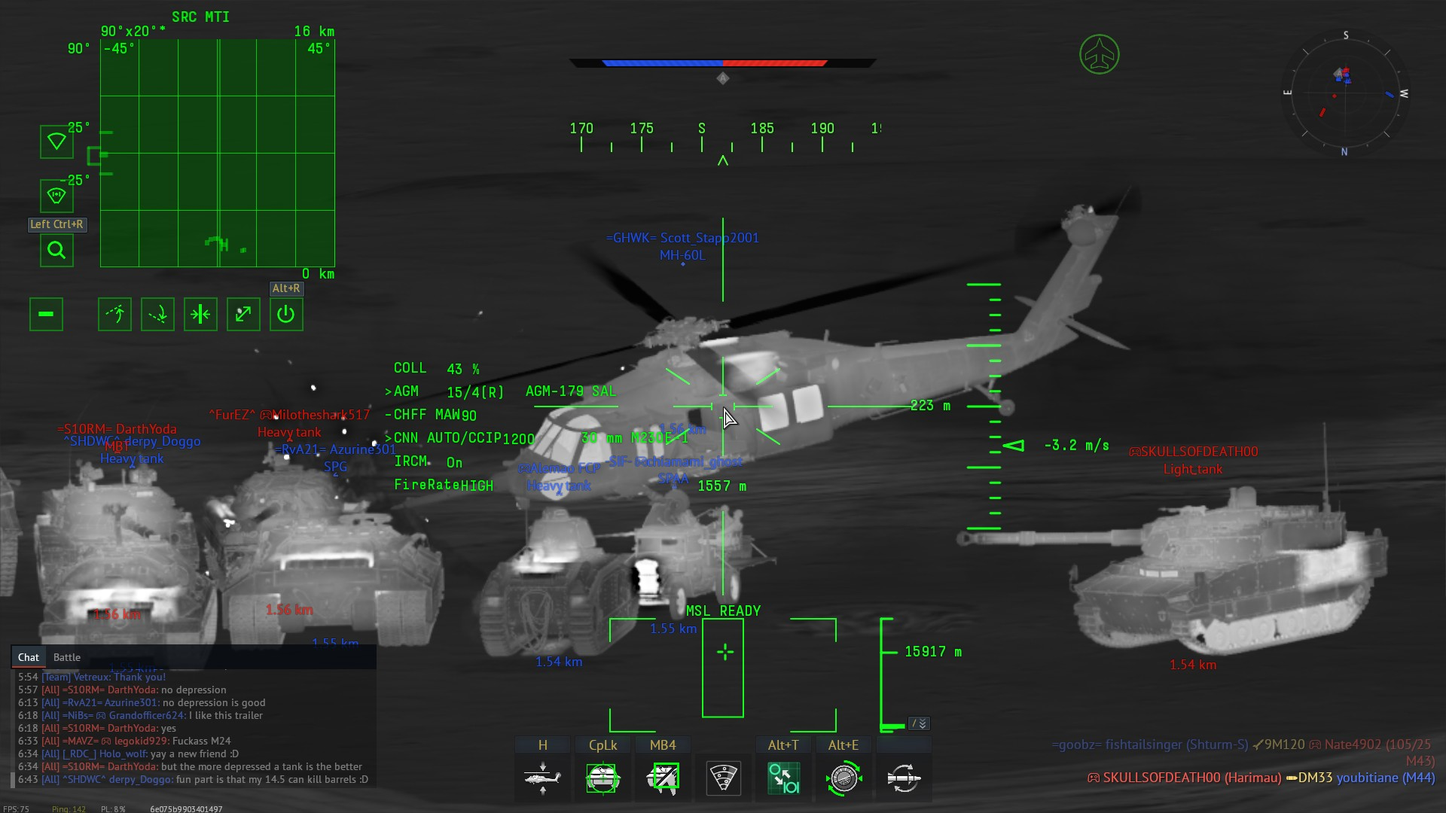ah/uh60: (479, 208, 1128, 508)
